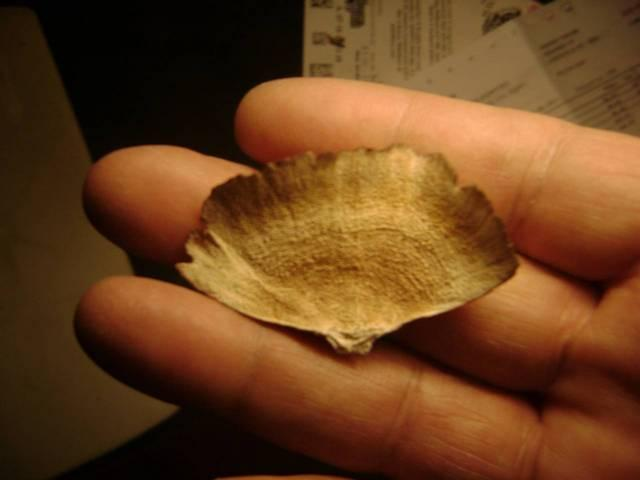poisonous_mushroom: (173, 142, 520, 355)
